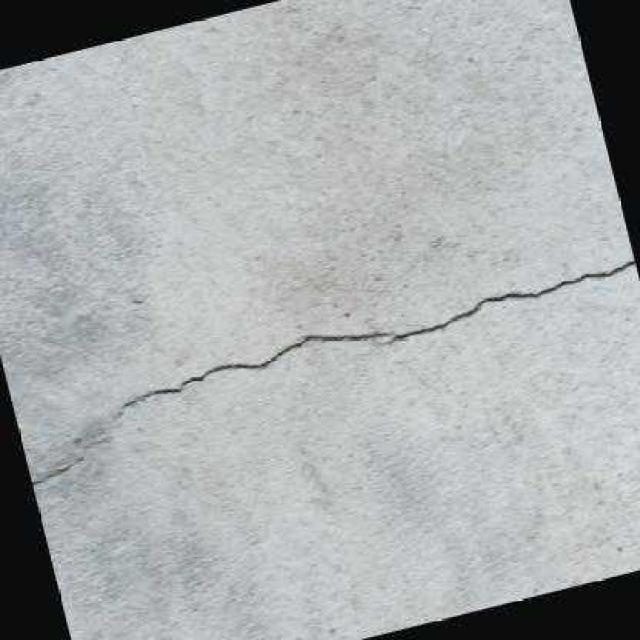D00: (30, 258, 636, 487)
